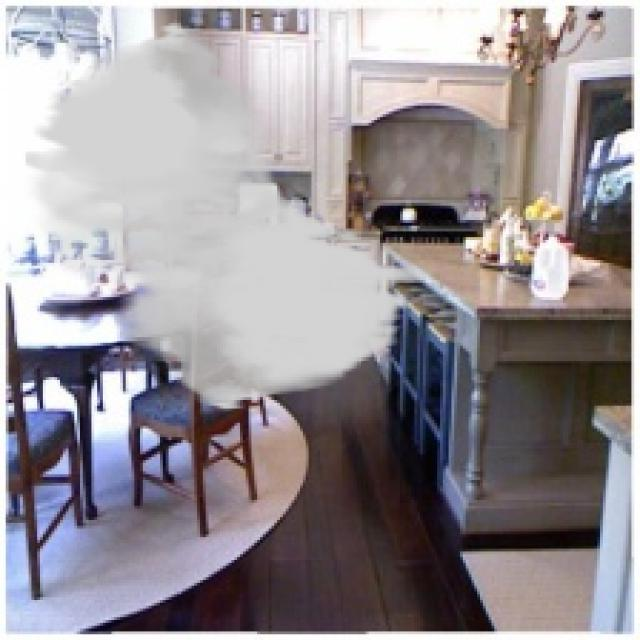smoke: (23, 20, 426, 411)
